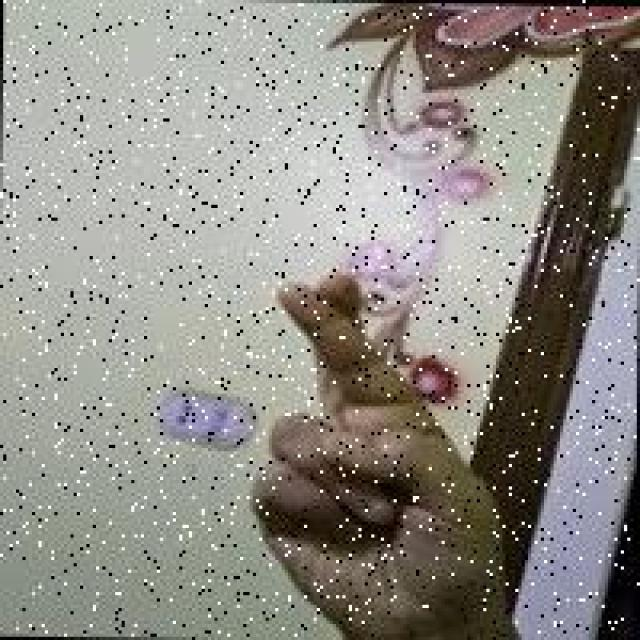R: (245, 264, 526, 638)
